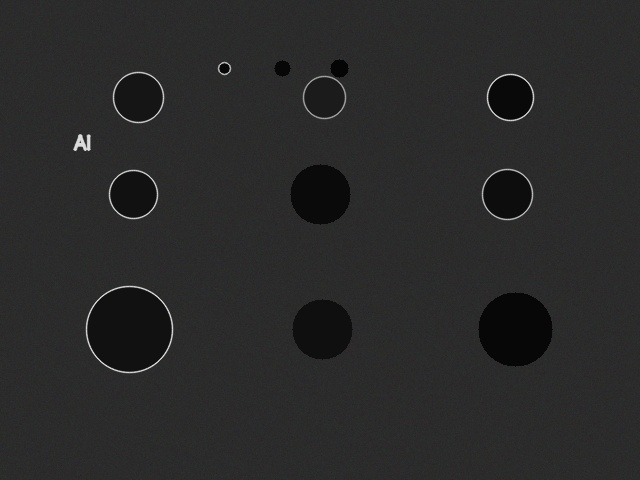hole: (86, 286, 172, 372), (478, 292, 552, 366), (290, 164, 350, 224), (292, 299, 352, 359), (113, 72, 163, 122), (482, 169, 532, 219), (109, 170, 157, 218), (487, 74, 533, 120), (303, 76, 345, 118), (330, 59, 348, 77), (274, 60, 290, 76), (218, 62, 230, 74)
